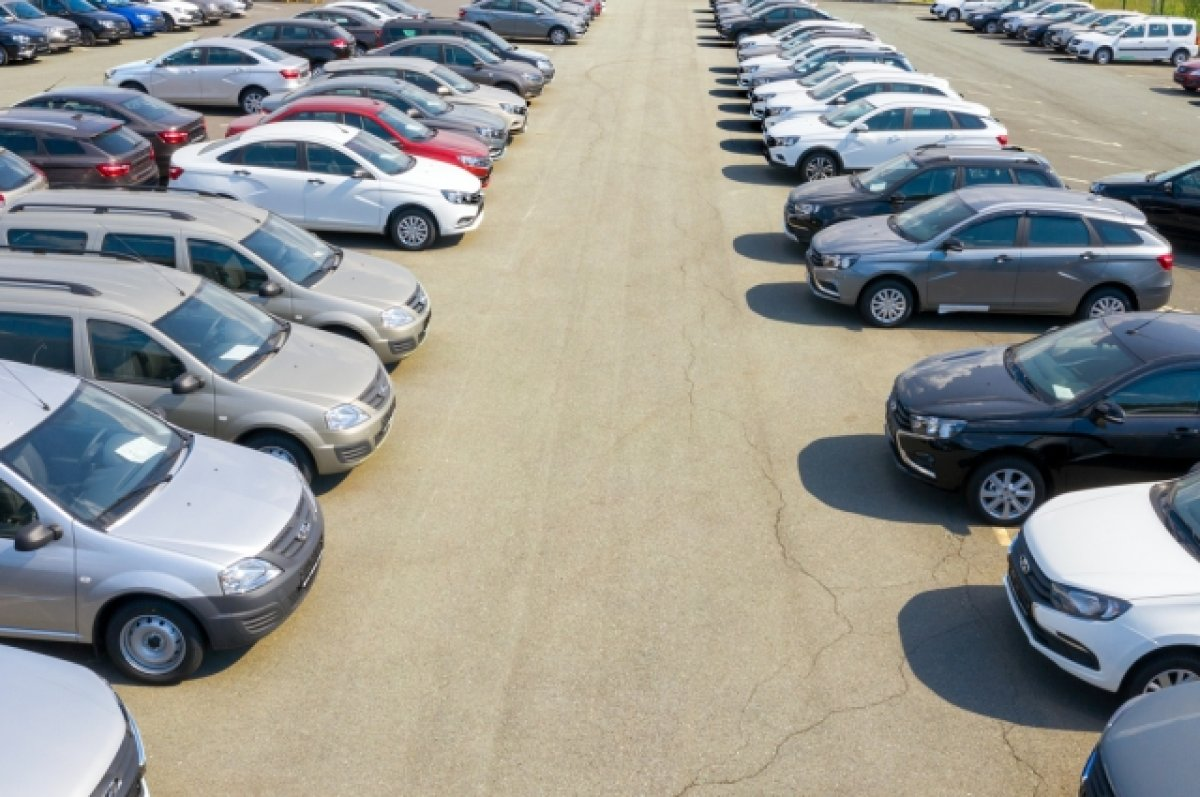Car: (0, 360, 324, 684), (0, 251, 396, 482), (0, 190, 431, 364), (884, 311, 1200, 526), (805, 186, 1174, 328), (1003, 458, 1200, 700), (167, 122, 484, 251), (783, 146, 1064, 246), (225, 97, 495, 188), (0, 644, 150, 797), (259, 76, 510, 161), (764, 95, 1009, 181), (8, 86, 207, 189), (307, 56, 528, 135), (102, 36, 312, 114), (1078, 681, 1200, 797), (0, 107, 159, 190), (381, 16, 554, 86), (762, 72, 960, 132), (365, 36, 545, 100), (750, 64, 909, 120), (747, 47, 917, 98), (1089, 161, 1200, 237), (736, 38, 896, 88), (231, 19, 357, 72), (1068, 15, 1198, 65), (459, 0, 586, 45), (719, 3, 840, 47), (738, 28, 881, 62), (27, 0, 131, 45), (291, 7, 384, 56), (1043, 8, 1145, 52), (736, 20, 865, 53), (0, 0, 80, 51), (999, 0, 1095, 38), (715, 0, 817, 31), (1016, 7, 1096, 46), (0, 147, 47, 210), (88, 0, 166, 37), (0, 16, 49, 66), (966, 0, 1040, 33), (132, 0, 202, 31), (319, 0, 415, 20), (929, 0, 1002, 21), (544, 0, 591, 32), (363, 0, 432, 18), (712, 0, 762, 21), (1174, 58, 1200, 93), (190, 0, 225, 25), (221, 0, 253, 18), (568, 0, 593, 20), (581, 0, 603, 17), (715, 0, 742, 9), (708, 0, 717, 8)
